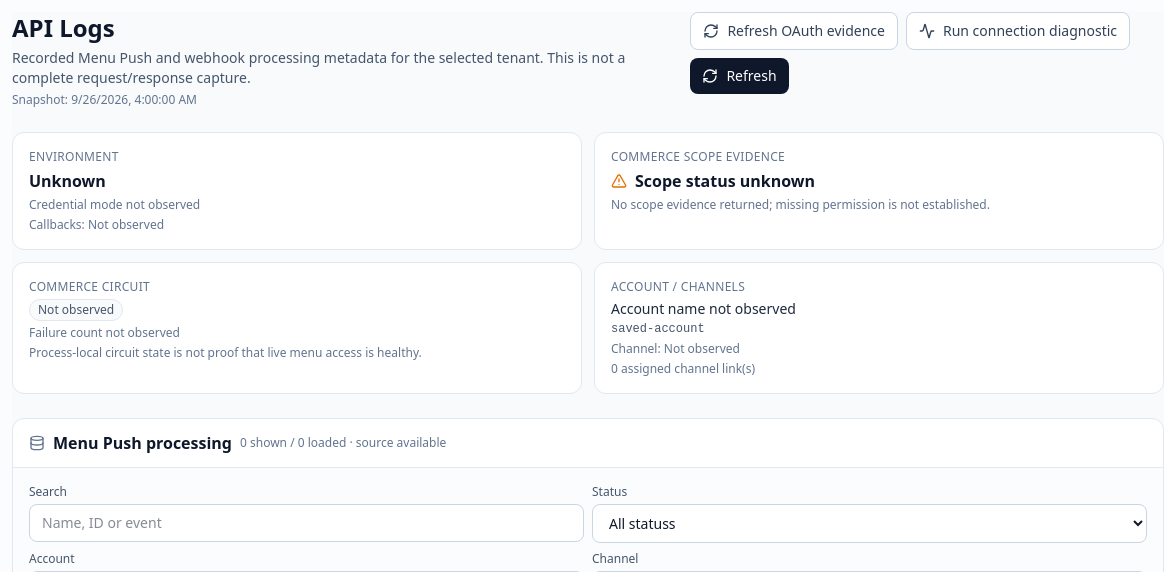
Scenario: API Logs real component › labels a retained same-tenant snapshot as stale when refresh fails
Click the button "Refresh".
click(740, 76)  # box x1=690 y1=58 x2=789 y2=94
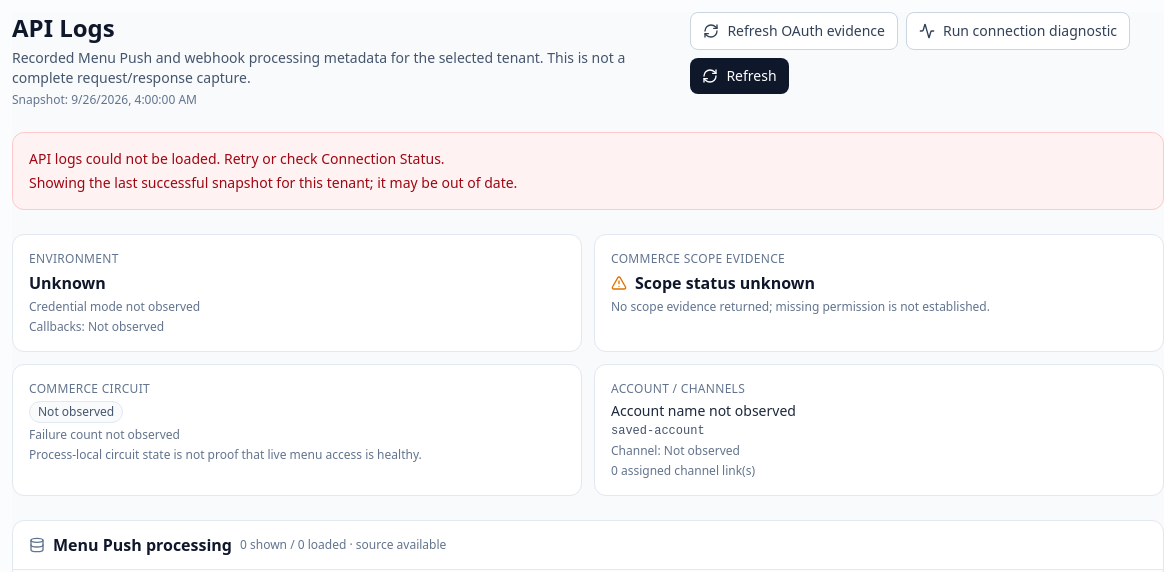
Expected: the text "saved-account" is shown, x1=611 y1=424 x2=705 y2=438
Result: the text "last successful snapshot for this tenant" is shown at x1=29 y1=173 x2=517 y2=192
